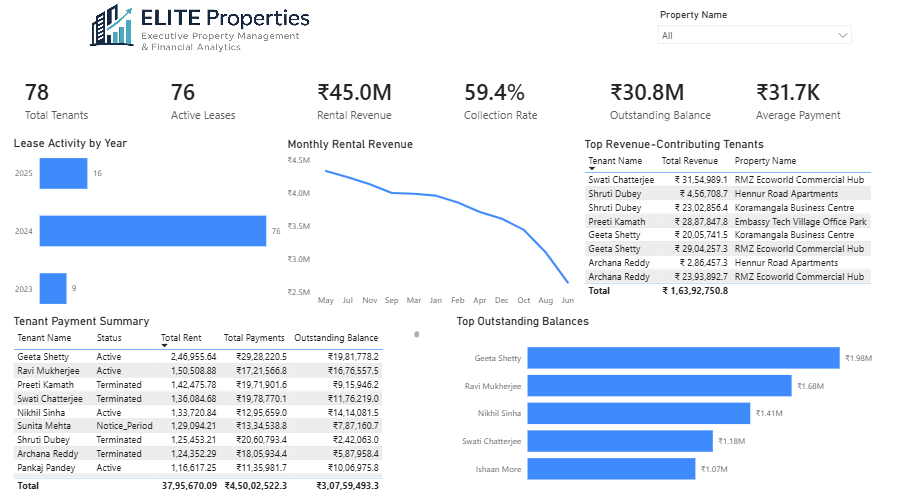

Layout of this report page (visuals, bound fields, positions):
{"tool":"powerbi","page":{"name":"Tenant & Lease Analytics","canvas":[1280,720],"ordinal":2},"visuals":[{"type":"cardVisual","fields":{"Data":["All Measures.Total Tenants"]},"box":[10.1,93.6,210,99.4],"z":0},{"type":"cardVisual","fields":{"Data":["All Measures.Active Leases"]},"box":[222.1,93.6,210,99.4],"z":1000},{"type":"cardVisual","fields":{"Data":["All Measures.Total Payments"]},"box":[434,93.6,210,99.4],"z":2000},{"type":"cardVisual","fields":{"Data":["All Measures.Collection Rate %"]},"box":[646,93.6,210,99.4],"z":3000},{"type":"cardVisual","fields":{"Data":["All Measures.Outstanding Balance"]},"box":[858,93.6,210,99.4],"z":4000},{"type":"cardVisual","fields":{"Data":["All Measures.Average Payment"]},"box":[1070,93.6,210,99.4],"z":5000},{"type":"clusteredBarChart","title":"Lease Activity by Year","fields":{"Category":["fact leases.end_date.Variation.Date Hierarchy.Year","fact leases.end_date.Variation.Date Hierarchy.Month"],"Y":["CountNonNull(fact leases.lease_id)"]},"box":[17.3,198.7,397.4,256.3],"z":6000},{"type":"lineChart","title":"Monthly Rental Revenue","fields":{"Category":["Calendar.Month"],"Y":["All Measures.Total Payments"]},"box":[414.7,200.2,429.1,254.9],"z":7000},{"type":"barChart","title":"Top Outstanding Balances","fields":{"Category":["dim tenants.full_name"],"Y":["All Measures.Outstanding Balance"]},"box":[659.5,456.5,613.4,262.1],"z":8000},{"type":"tableEx","title":"Top Revenue-Contributing Tenants","fields":{"Values":["dim tenants.full_name","All Measures.Total Revenue","dim properties.name"]},"box":[845.3,200.2,427.7,256.3],"z":9000},{"type":"tableEx","title":"Tenant Payment Summary","fields":{"Values":["dim tenants.full_name","fact leases.status","Sum(fact leases.agreed_rent)","All Measures.Total Payments","All Measures.Outstanding Balance"]},"box":[17.3,456.5,599,262.1],"z":10000},{"type":"image","box":[0,0,586.1,106.6],"z":11000},{"type":"slicer","fields":{"Values":["dim properties.name"]},"box":[946.1,10.1,301,106.6],"z":12000}]}

Visuals, with their boxes in screenshot pixels (x1, y1, x2, y2), scaled from the page's 1280x720 canvas onto the 898x504 screenshot:
cardVisual - All Measures.Total Tenants: [x1=7, y1=66, x2=154, y2=135]
cardVisual - All Measures.Active Leases: [x1=156, y1=66, x2=303, y2=135]
cardVisual - All Measures.Total Payments: [x1=304, y1=66, x2=452, y2=135]
cardVisual - All Measures.Collection Rate %: [x1=453, y1=66, x2=601, y2=135]
cardVisual - All Measures.Outstanding Balance: [x1=602, y1=66, x2=749, y2=135]
cardVisual - All Measures.Average Payment: [x1=751, y1=66, x2=897, y2=135]
"Lease Activity by Year" clusteredBarChart: [x1=12, y1=139, x2=291, y2=318]
"Monthly Rental Revenue" lineChart: [x1=291, y1=140, x2=592, y2=319]
"Top Outstanding Balances" barChart: [x1=463, y1=320, x2=893, y2=503]
"Top Revenue-Contributing Tenants" tableEx: [x1=593, y1=140, x2=893, y2=320]
"Tenant Payment Summary" tableEx: [x1=12, y1=320, x2=432, y2=503]
image: [x1=0, y1=0, x2=411, y2=75]
slicer - dim properties.name: [x1=664, y1=7, x2=875, y2=82]
